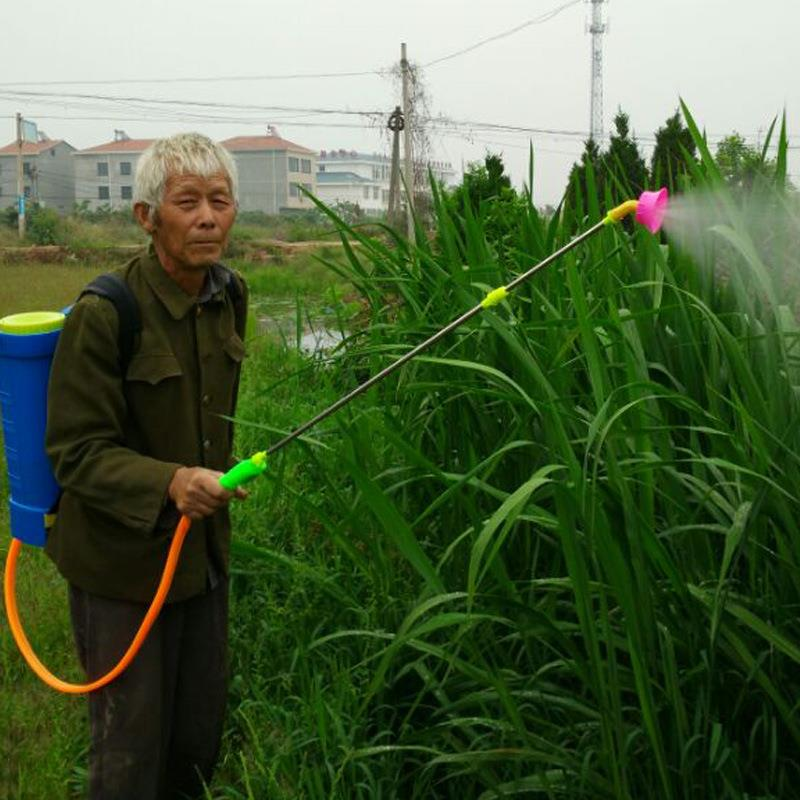berrl: (1, 311, 70, 548)
